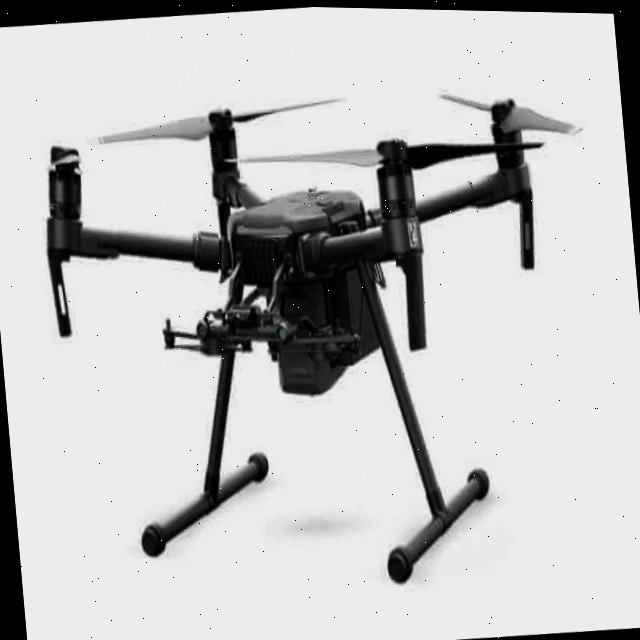drone: (19, 37, 615, 416)
